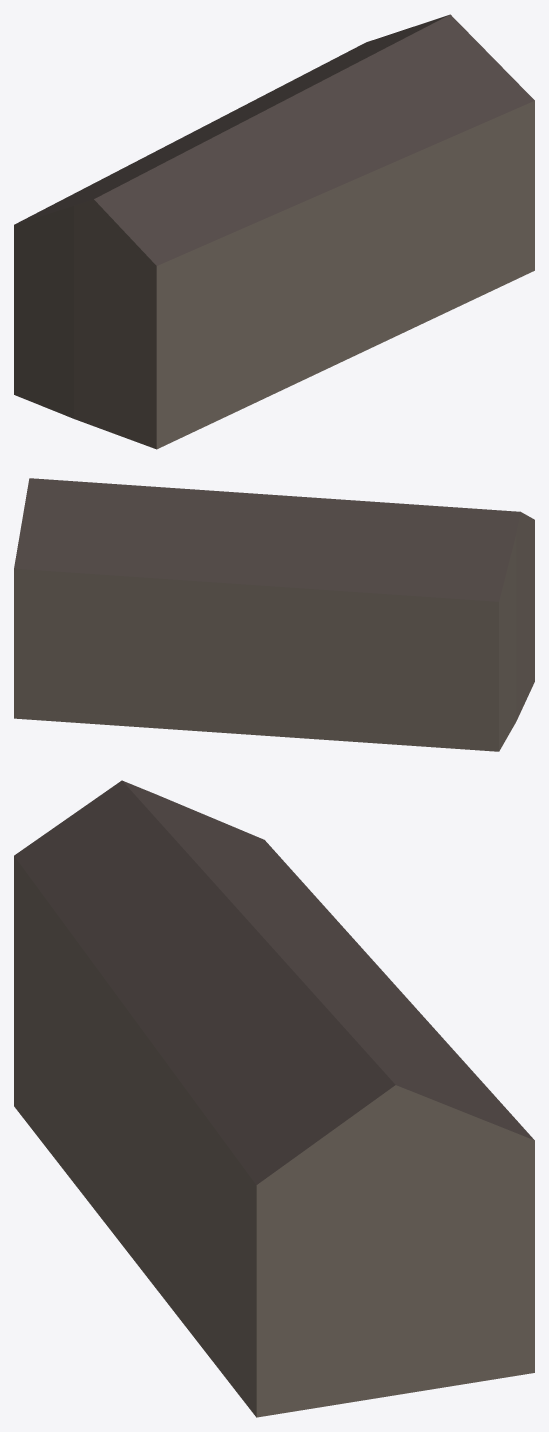
3 views of the same model, one above another, from view 1: azimuth 30°, elevation 25°; view 2: azimuth 150°, elevation 25°; view 3: azimuth 270°, elevation 25° (orthographic). The views are drawn at different scales.
Visible parts, largest first — view 1: HP-w1512461414; view 2: HP-w1512461414; view 3: HP-w1512461414.
Boxes of the visible parts, <box> form: HP-w1512461414: <box>14,14,534,449</box>; HP-w1512461414: <box>14,478,534,751</box>; HP-w1512461414: <box>14,780,534,1417</box>.
Size of the model in its own units: 28.7 by 12.02 by 18.29.
